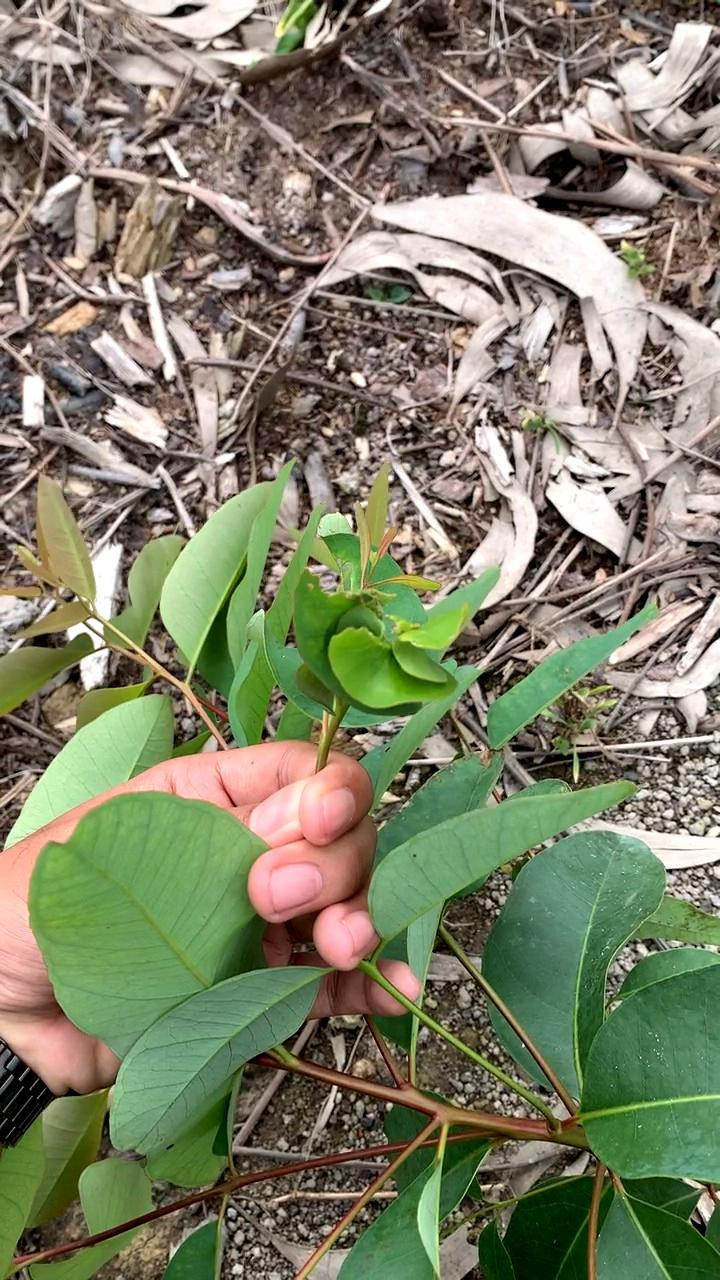Leaf Roller - Leaf: (281, 543, 463, 754)
